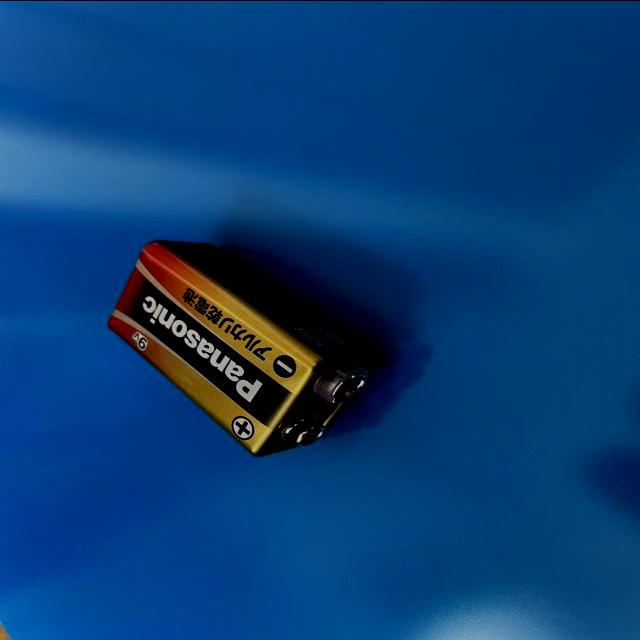9V: (108, 239, 376, 455)
